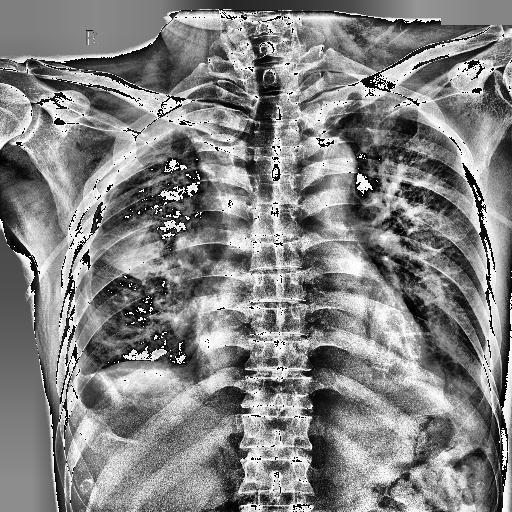0- Aortic enlargement: (282, 132, 355, 212), (292, 134, 356, 206)
10- Pleural effusion: (65, 96, 197, 439), (56, 353, 106, 415), (64, 353, 93, 393)
11- Pleural thickening: (64, 110, 181, 372), (64, 164, 120, 351), (303, 80, 430, 128), (56, 353, 106, 415)
13- Pulmonary fibrosis: (112, 142, 201, 349), (362, 146, 464, 325)
2- Calcification: (64, 164, 120, 351), (91, 196, 111, 230), (92, 202, 106, 233)
3- Cardiomegaly: (198, 276, 426, 388), (190, 296, 428, 392)
4- Consolidation: (98, 225, 162, 279)
5- ILD: (348, 113, 480, 395), (87, 138, 192, 364), (112, 142, 201, 349), (362, 146, 464, 325)
7- Lung Opacity: (186, 102, 254, 222), (178, 99, 244, 215), (432, 337, 490, 409), (111, 224, 159, 280)
9- Other lesion: (112, 142, 201, 349), (362, 146, 464, 325), (432, 337, 490, 409)
